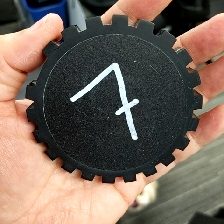gear: (24, 12, 205, 185)
missing: (25, 39, 63, 102)
